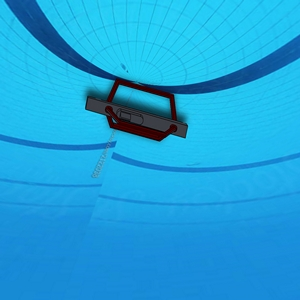submarine: (85, 79, 189, 150)
